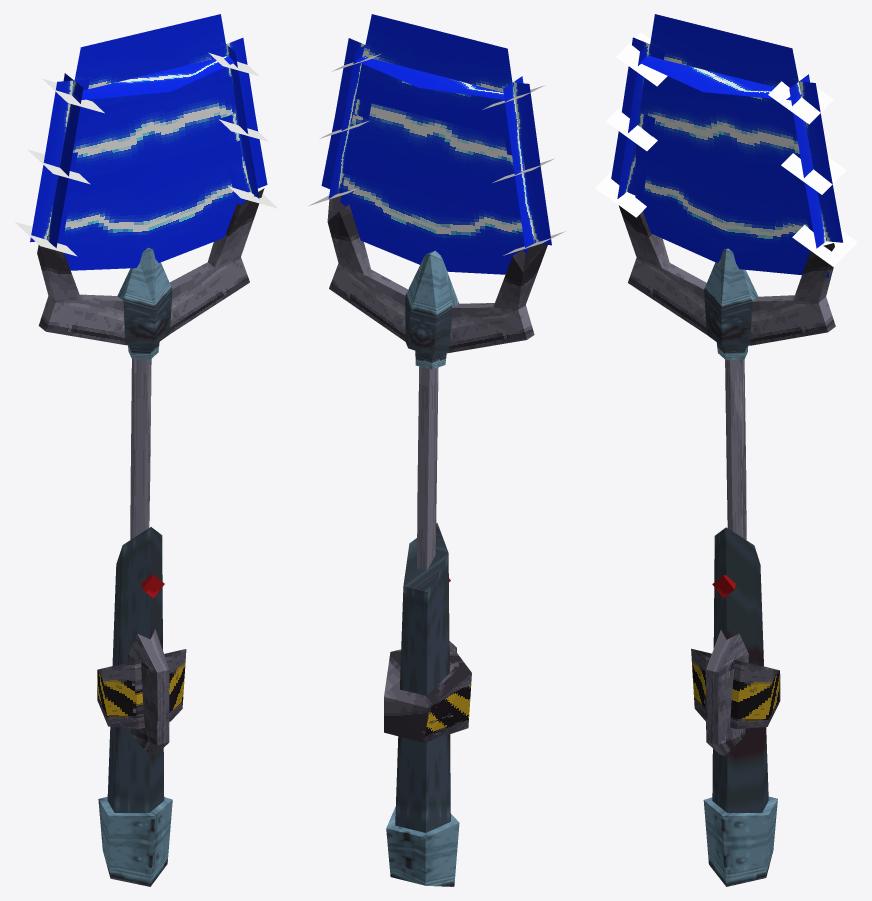
Rendered from Electric Swatter.obj.
The picture shows the model from 3 angles, left to right: view 1: azimuth 30°, elevation 25°; view 2: azimuth 150°, elevation 25°; view 3: azimuth 330°, elevation 25°; orthographic projection.
Parts seen in each view (by area): view 1: model709_material709_, model709_material.002, model709_material.001, model709_material.003; view 2: model709_material709_, model709_material.001, model709_material.002, model709_material.003; view 3: model709_material709_, model709_material.002, model709_material.001, model709_material.003.
Part boxes in pixels (<box>): model709_material709_: <box>30,14,267,270</box>; model709_material.002: <box>37,188,264,755</box>; model709_material.001: <box>98,247,172,886</box>; model709_material.003: <box>14,52,277,256</box>; model709_material709_: <box>321,14,551,274</box>; model709_material.001: <box>386,250,459,886</box>; model709_material.002: <box>327,193,547,742</box>; model709_material.003: <box>309,54,565,255</box>; model709_material709_: <box>611,14,843,277</box>; model709_material.002: <box>618,205,835,755</box>; model709_material.001: <box>703,248,777,886</box>; model709_material.003: <box>595,32,857,266</box>.
Size of the model in its own units: 0.0411 by 0.1408 by 0.0164.
Materials: 5 (5 with a texture image).
